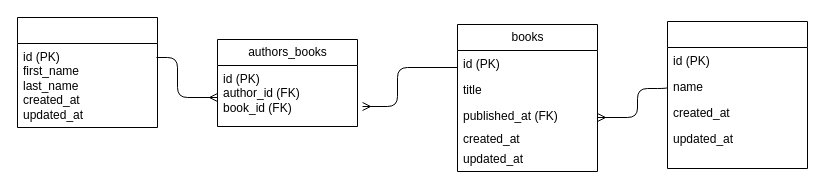
Image size: 825x192. Some labels were removed from this diagram. The box of each missing label's shape, as (x1, y1, x2, y2) in pixels:
authors: (16, 16, 158, 128)
publishers: (666, 20, 808, 168)
